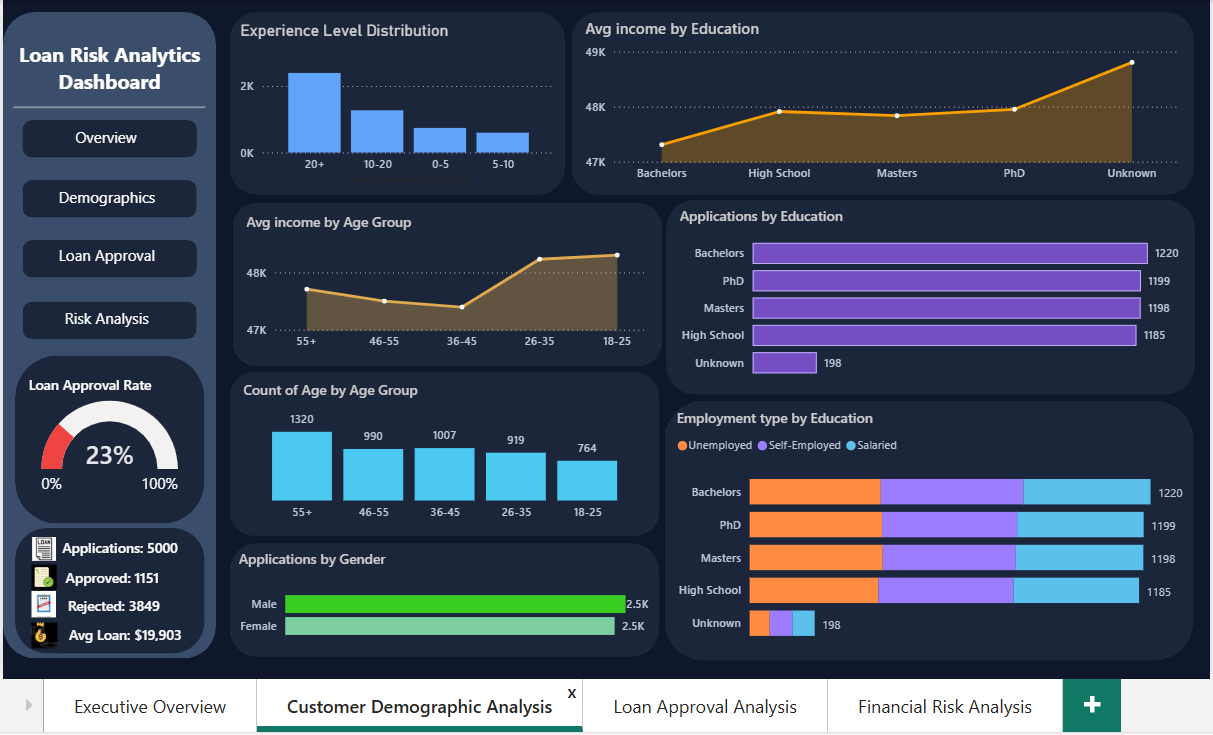

The dashboard page shown, as its layout file describes it:
{"tool":"powerbi","page":{"name":"Customer Demographic Analysis","canvas":[1280,720],"ordinal":1},"visuals":[{"type":"columnChart","fields":{"Category":["LOAN_RISK_DATA_CLEAN.Age Group"],"Y":["CountNonNull(LOAN_RISK_DATA_CLEAN.AGE)"]},"box":[777.2,210.5,484.1,189.4],"z":0},{"type":"barChart","fields":{"Category":["LOAN_RISK_DATA_CLEAN.EDUCATION"],"Y":["LOAN_RISK_DATA_CLEAN.Total Applications"]},"box":[13,406.4,443.7,302.8],"z":1000},{"type":"barChart","fields":{"Y":["LOAN_RISK_DATA_CLEAN.Total Applications"],"Category":["LOAN_RISK_DATA_CLEAN.GENDER"]},"box":[777.2,21,484.1,189.4],"z":2000},{"type":"clusteredBarChart","fields":{"Category":["LOAN_RISK_DATA_CLEAN.Years experience grouped"],"Y":["CountNonNull(LOAN_RISK_DATA_CLEAN.YEARSEXPERIENCE)"]},"box":[471.2,406.4,306,307.7],"z":3000},{"type":"areaChart","fields":{"Category":["LOAN_RISK_DATA_CLEAN.EDUCATION"],"Y":["LOAN_RISK_DATA_CLEAN.Avg income"]},"box":[13,21,751.3,189.4],"z":4000},{"type":"areaChart","fields":{"Category":["LOAN_RISK_DATA_CLEAN.Age Group"],"Y":["LOAN_RISK_DATA_CLEAN.Avg income"]},"box":[13,210.5,751.3,189.4],"z":5000},{"type":"barChart","fields":{"Category":["LOAN_RISK_DATA_CLEAN.EDUCATION"],"Series":["LOAN_RISK_DATA_CLEAN.EMPLOYMENTTYPE"],"Y":["CountNonNull(LOAN_RISK_DATA_CLEAN.EDUCATION)"]},"box":[777.2,409.7,484.1,299.6],"z":6000}]}

Visuals, with their boxes on the page's 1280x720 design canvas (x1, y1, x2, y2). These are canvas units, not pixel positions in the 1213x735 screenshot, which may show the page scaled, cropped or inside an application window:
columnChart - LOAN_RISK_DATA_CLEAN.Age Group x CountNonNull(LOAN_RISK_DATA_CLEAN.AGE): [777,210,1261,400]
barChart - LOAN_RISK_DATA_CLEAN.EDUCATION x LOAN_RISK_DATA_CLEAN.Total Applications: [13,406,457,709]
barChart - LOAN_RISK_DATA_CLEAN.Total Applications x LOAN_RISK_DATA_CLEAN.GENDER: [777,21,1261,210]
clusteredBarChart - LOAN_RISK_DATA_CLEAN.Years experience grouped x CountNonNull(LOAN_RISK_DATA_CLEAN.YEARSEXPERIENCE): [471,406,777,714]
areaChart - LOAN_RISK_DATA_CLEAN.EDUCATION x LOAN_RISK_DATA_CLEAN.Avg income: [13,21,764,210]
areaChart - LOAN_RISK_DATA_CLEAN.Age Group x LOAN_RISK_DATA_CLEAN.Avg income: [13,210,764,400]
barChart - LOAN_RISK_DATA_CLEAN.EDUCATION x LOAN_RISK_DATA_CLEAN.EMPLOYMENTTYPE: [777,410,1261,709]
